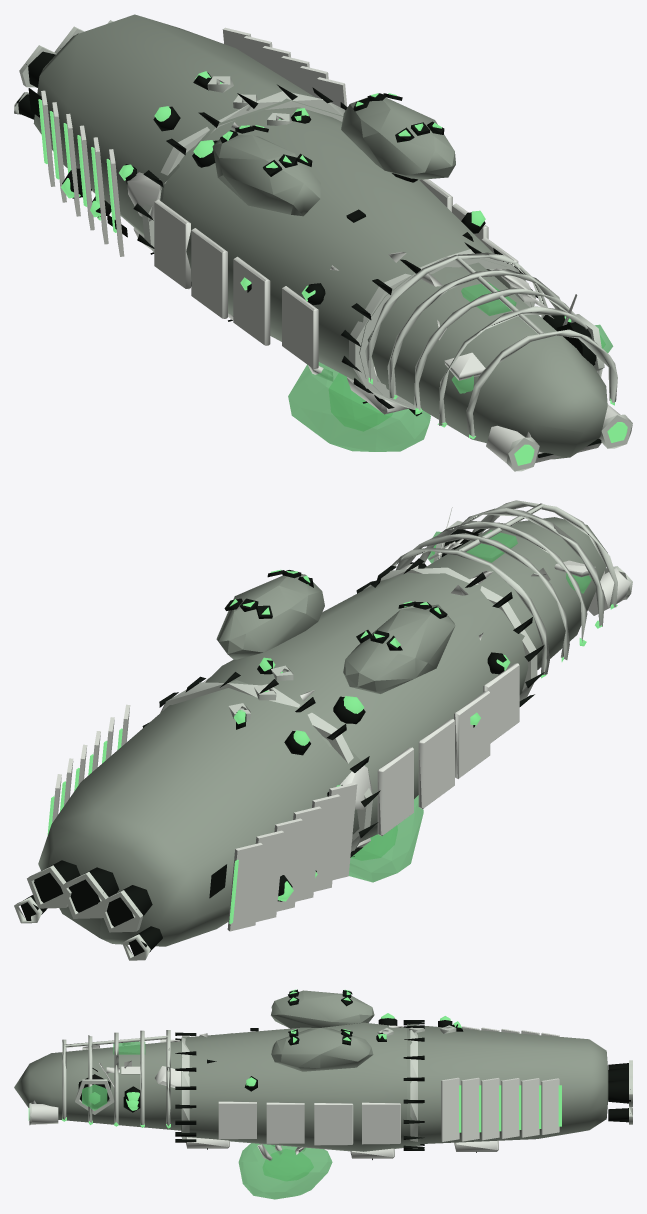
Rendered from zrost-szczepieni-trade-16-lod1.glb.
The picture shows the model from 3 angles, top to bottom: view 1: azimuth 30°, elevation 25°; view 2: azimuth 150°, elevation 25°; view 3: azimuth 270°, elevation 25°; orthographic projection. The views are drawn at different scales.
Bounding box in the file's own units: 18.9 × 21.98 × 68.35.
